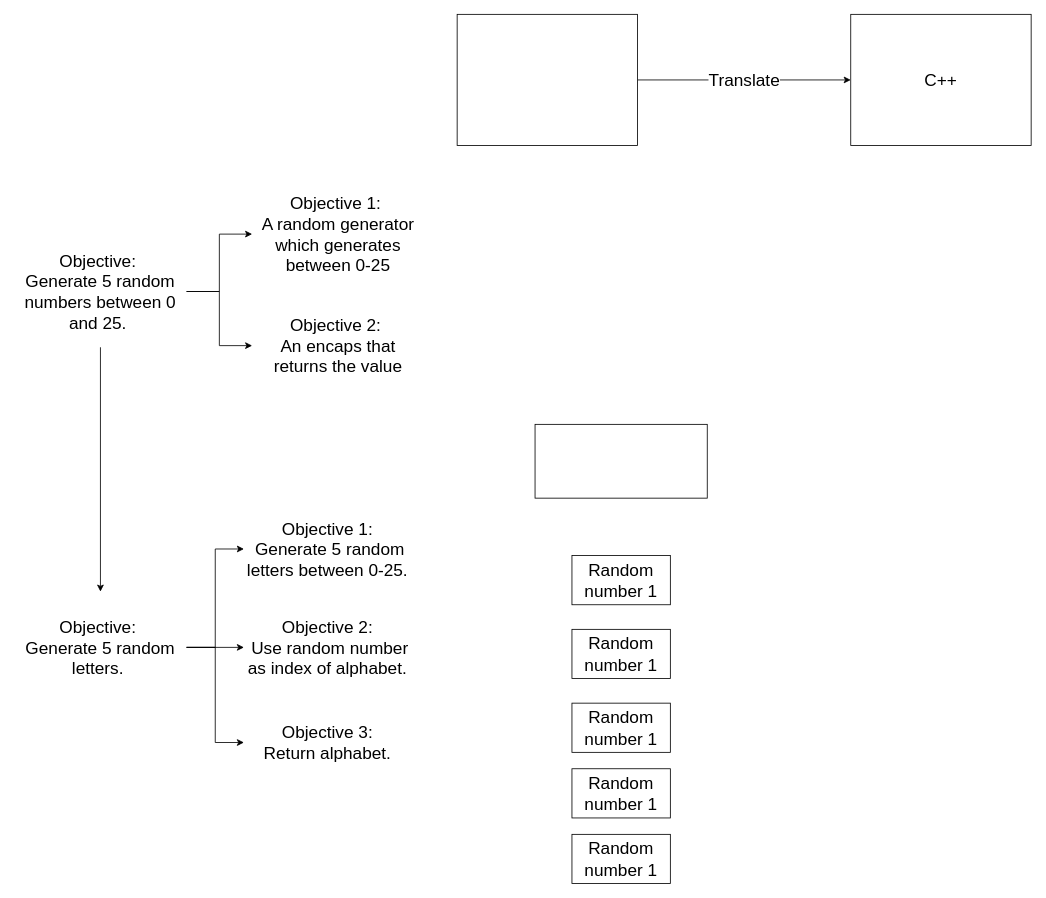
This 1046x898 diagram has some shape labels left out. Here are the shapes that lost their labels. From the top down, the centre of each, then its label:
At (x=547, y=80): "JavaScript".
At (x=620, y=461): "encapsulation".
